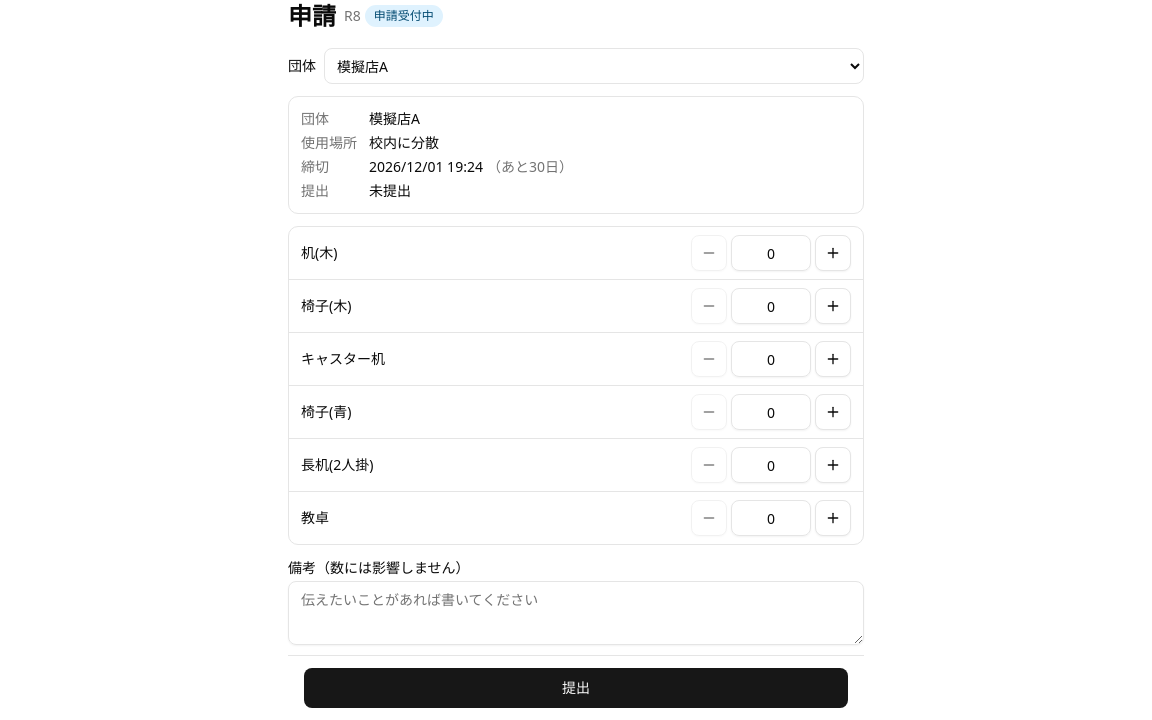
申請 /request › 提出の応答が届かなかったとき（設計 2.6 の (A)） › 送る前の読み直しが通信できなければ、送らずに知らせて入力を残す
Click the button named "机(木)の数を1増やす" at (833, 253), box [815,235,851,271]
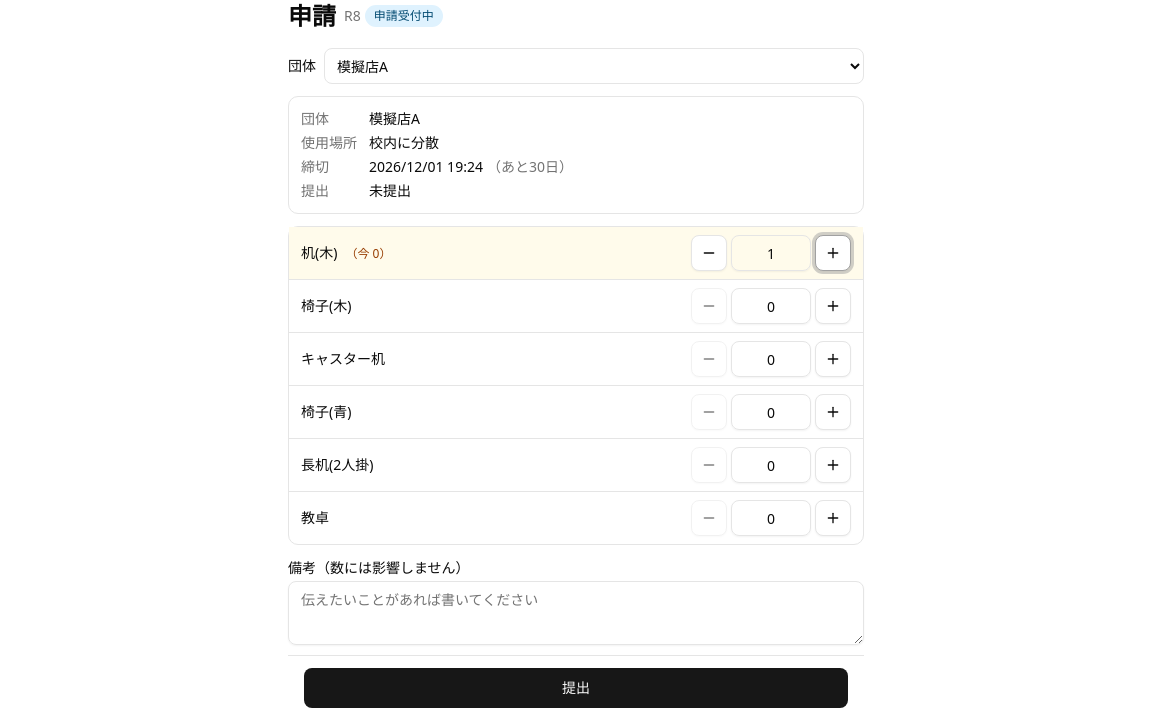
Click the button "提出" at (576, 688), box [304,668,848,708]
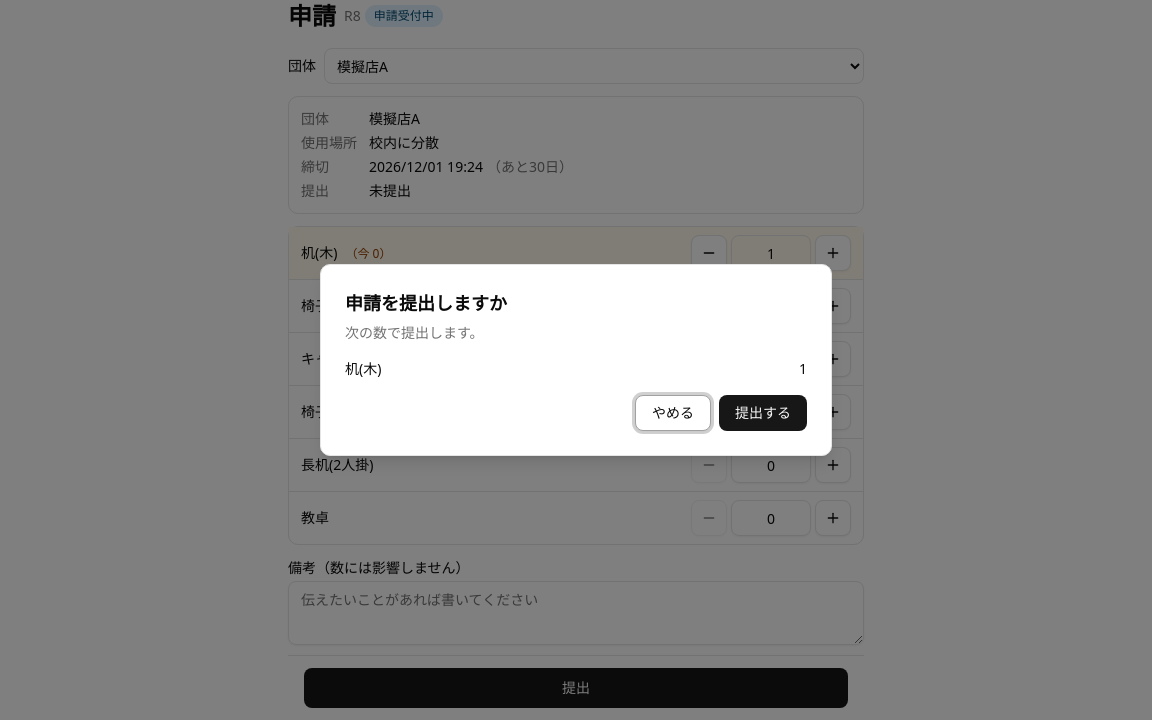
Click the button "提出する" at (763, 413), box [719,395,807,431]
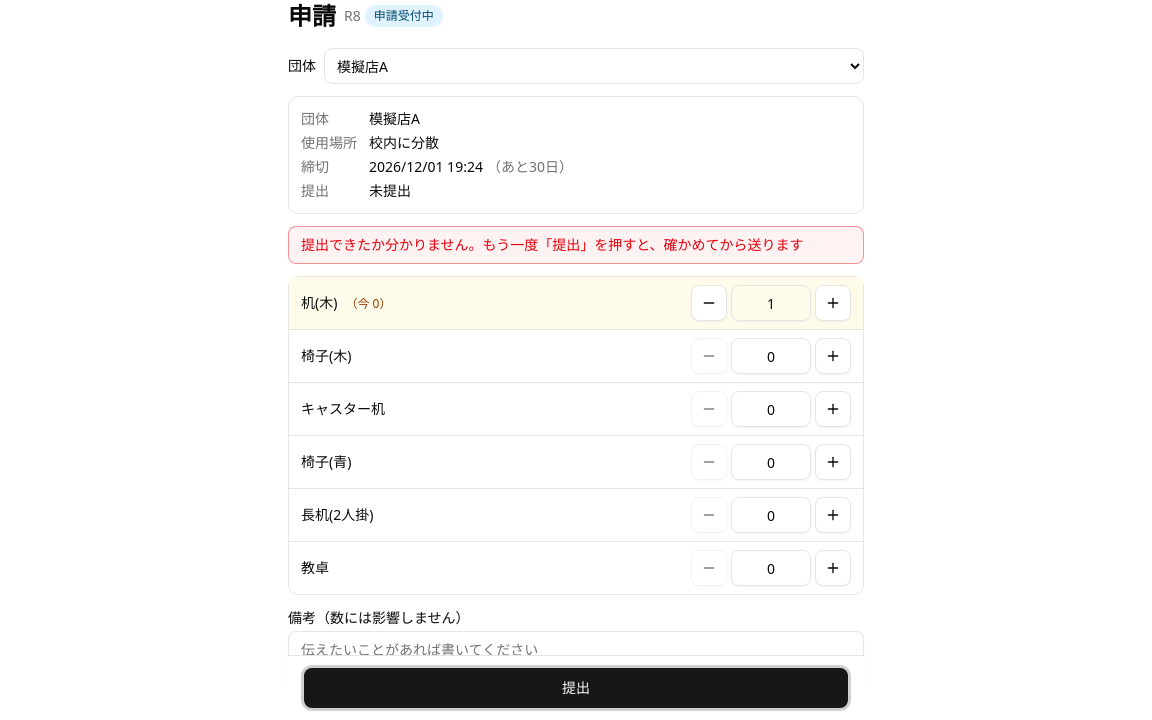
Result: the field with id "request-desk" holds "1" at [731,285,811,321]
Result: the message with test id "submit-error" reads "提出できたか分かりません。もう一度「提出」を押すと、確かめてから送ります" at [301,235,804,254]
